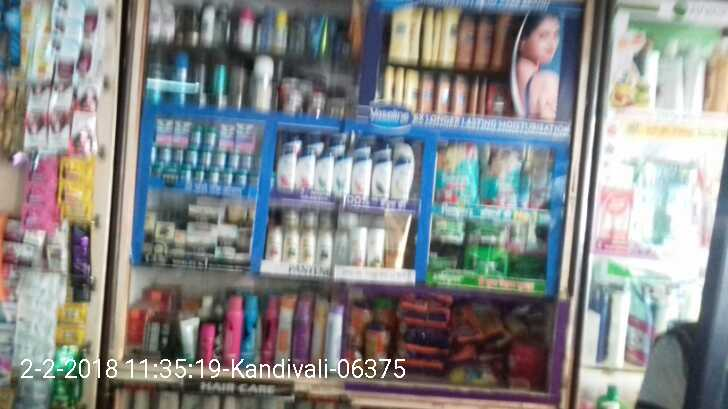vicks: (154, 118, 254, 189)
